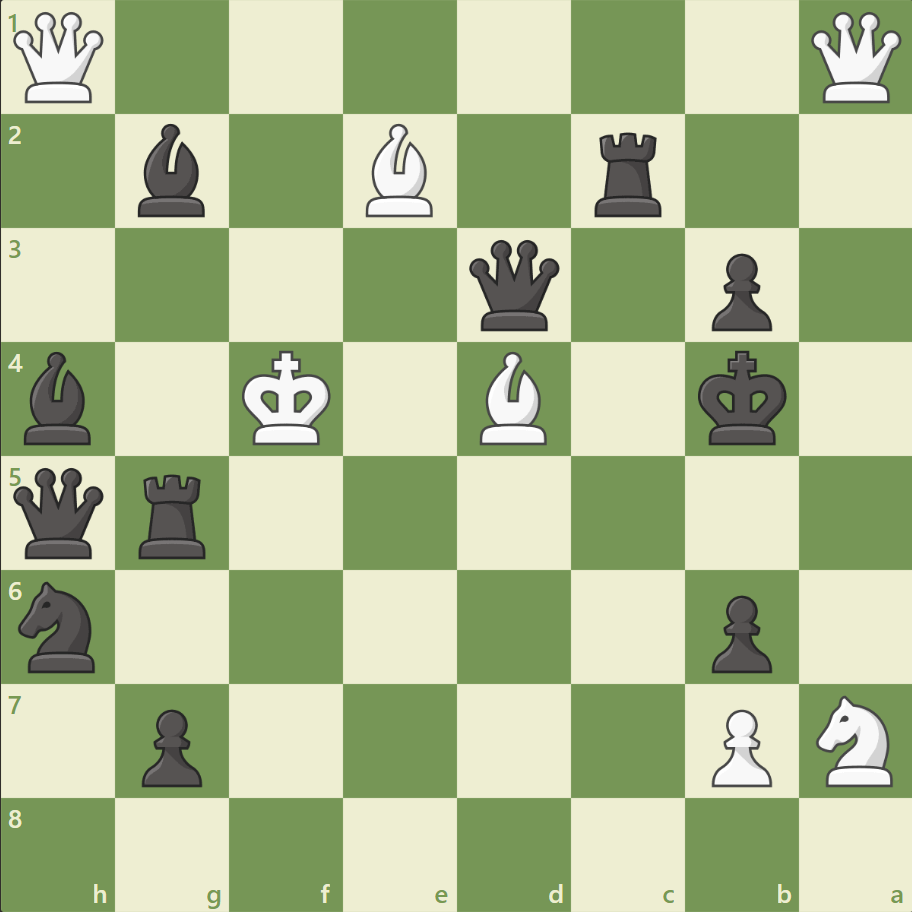B: (471, 347, 555, 449), (358, 120, 442, 222)
K: (238, 344, 338, 452)
N: (806, 688, 903, 791)
P: (701, 700, 776, 791)
Q: (805, 9, 904, 108), (10, 9, 109, 108)
b: (17, 347, 101, 449), (131, 120, 215, 222)
k: (692, 344, 792, 452)
n: (11, 575, 108, 677)
p: (133, 700, 208, 791), (701, 586, 776, 677), (701, 246, 776, 337)
q: (10, 463, 109, 562), (464, 236, 563, 335)
r: (587, 125, 670, 222), (133, 466, 215, 563)
